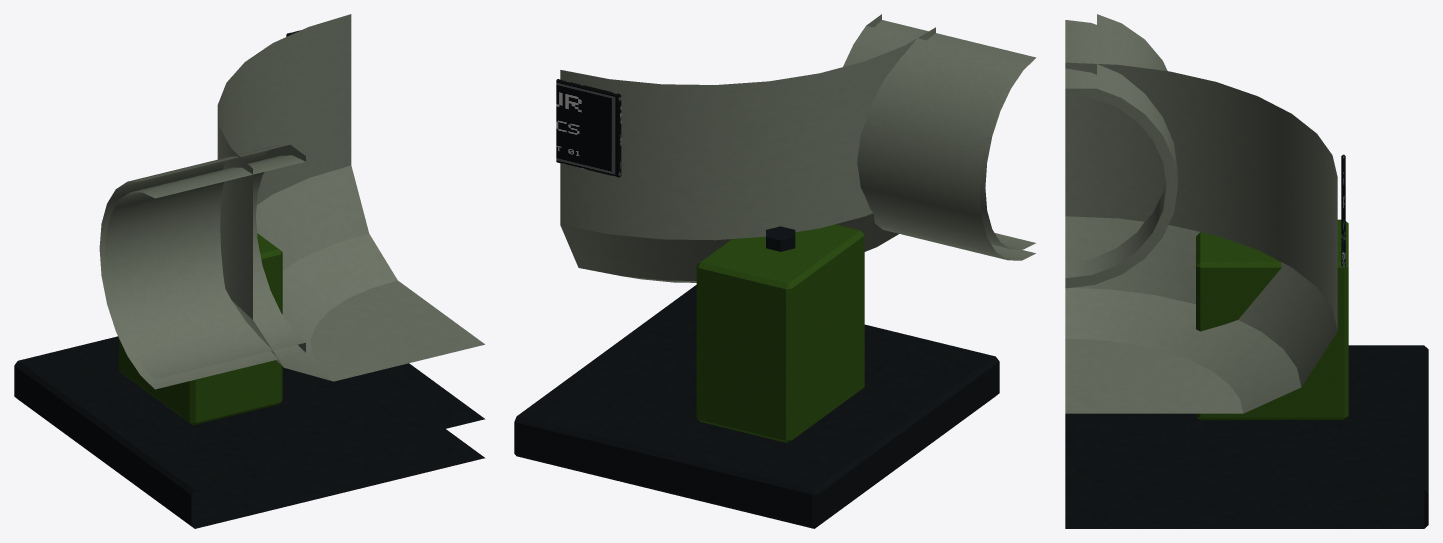
File: cell_1.obj
3 renders of one model, left to right at view 1: azimuth 30°, elevation 25°; view 2: azimuth 150°, elevation 25°; view 3: azimuth 270°, elevation 25°, orthographic. The views are drawn at different scales.
Visible parts, largest first — view 1: cell_1; view 2: cell_1; view 3: cell_1.
Boxes of the visible parts, x1,y1,x2,y2 form: cell_1: (14, 14, 485, 528); cell_1: (514, 14, 1036, 528); cell_1: (1065, 14, 1428, 528).
Bounding box in the file's own units: 1 × 1 × 0.9375.
